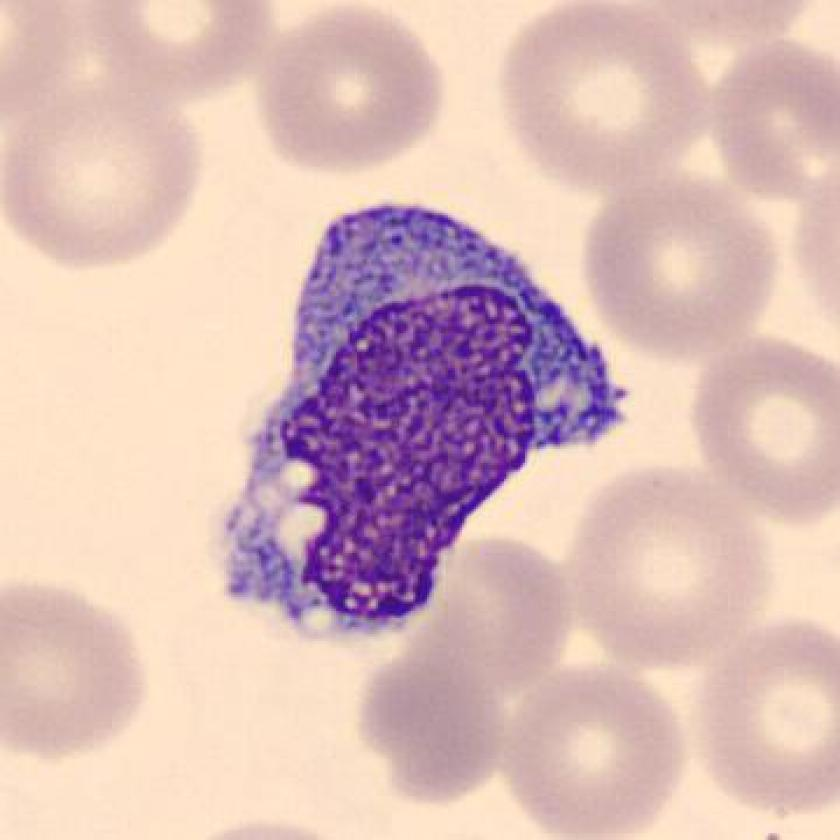monocyte: (192, 186, 643, 649)
